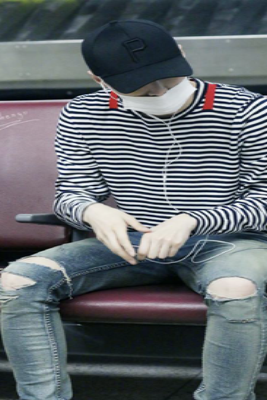mask_weared_incorrect: (109, 77, 199, 117)
